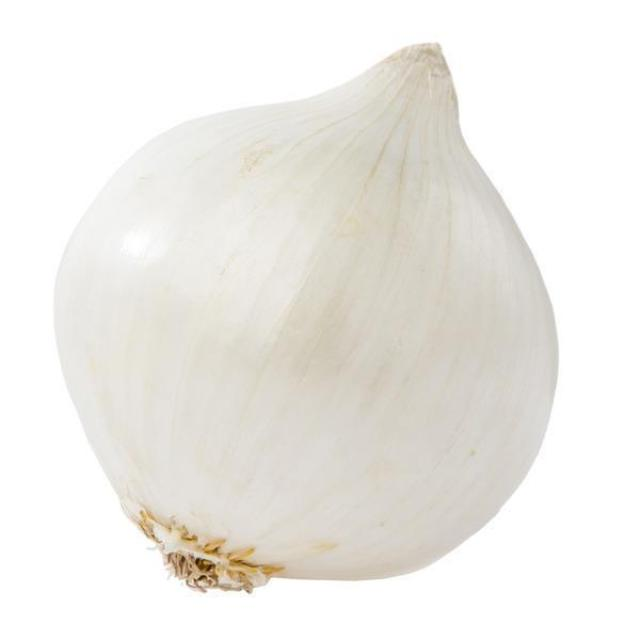Onion: (51, 39, 561, 596)
